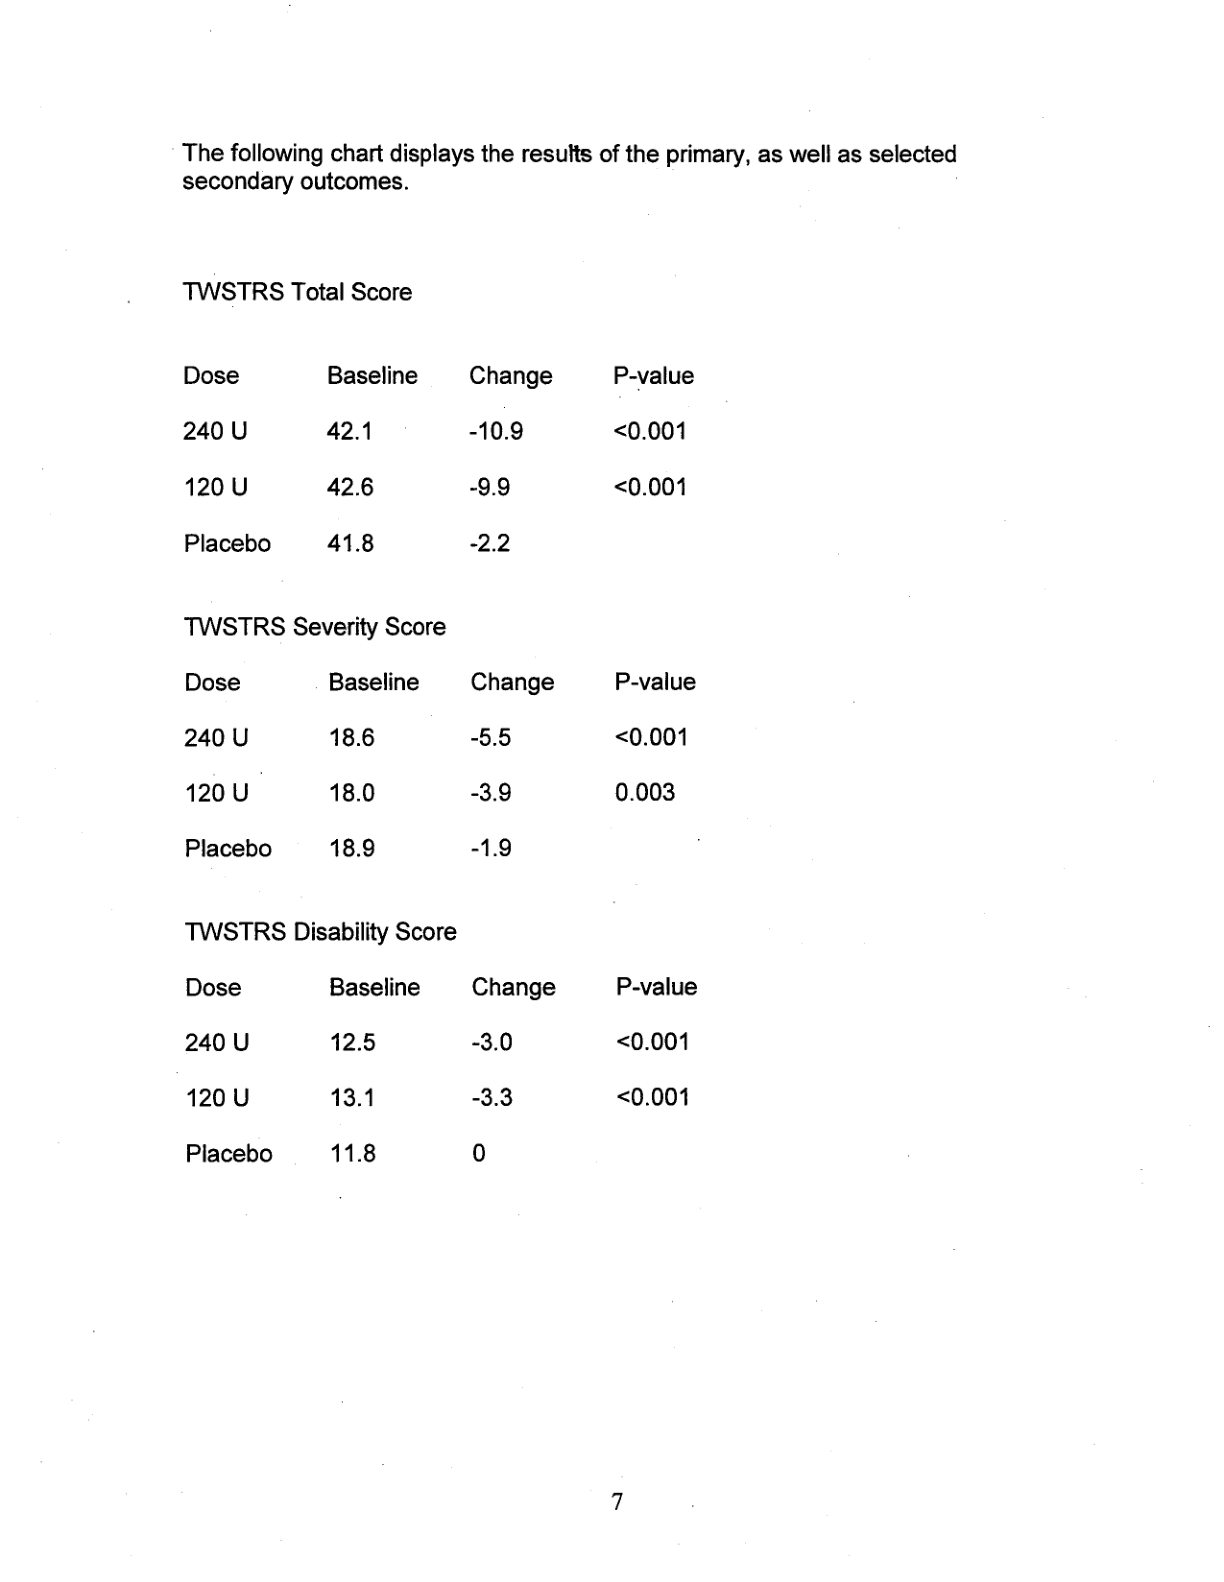nolines: (179, 361, 700, 559), (180, 666, 700, 862), (182, 975, 703, 1167)
